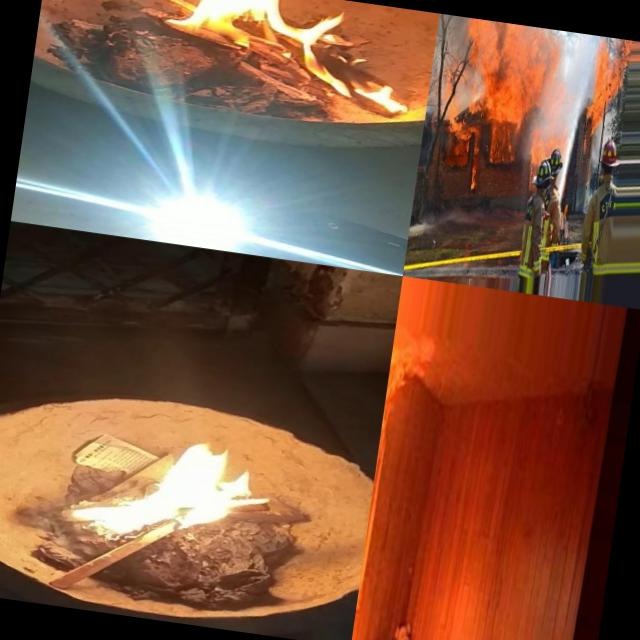fire: (133, 0, 420, 117), (54, 426, 271, 564), (355, 316, 432, 618), (458, 18, 564, 124), (585, 36, 629, 139), (434, 67, 482, 146), (485, 118, 523, 166), (467, 130, 482, 196), (530, 128, 552, 162)
smoke: (433, 14, 472, 70)
